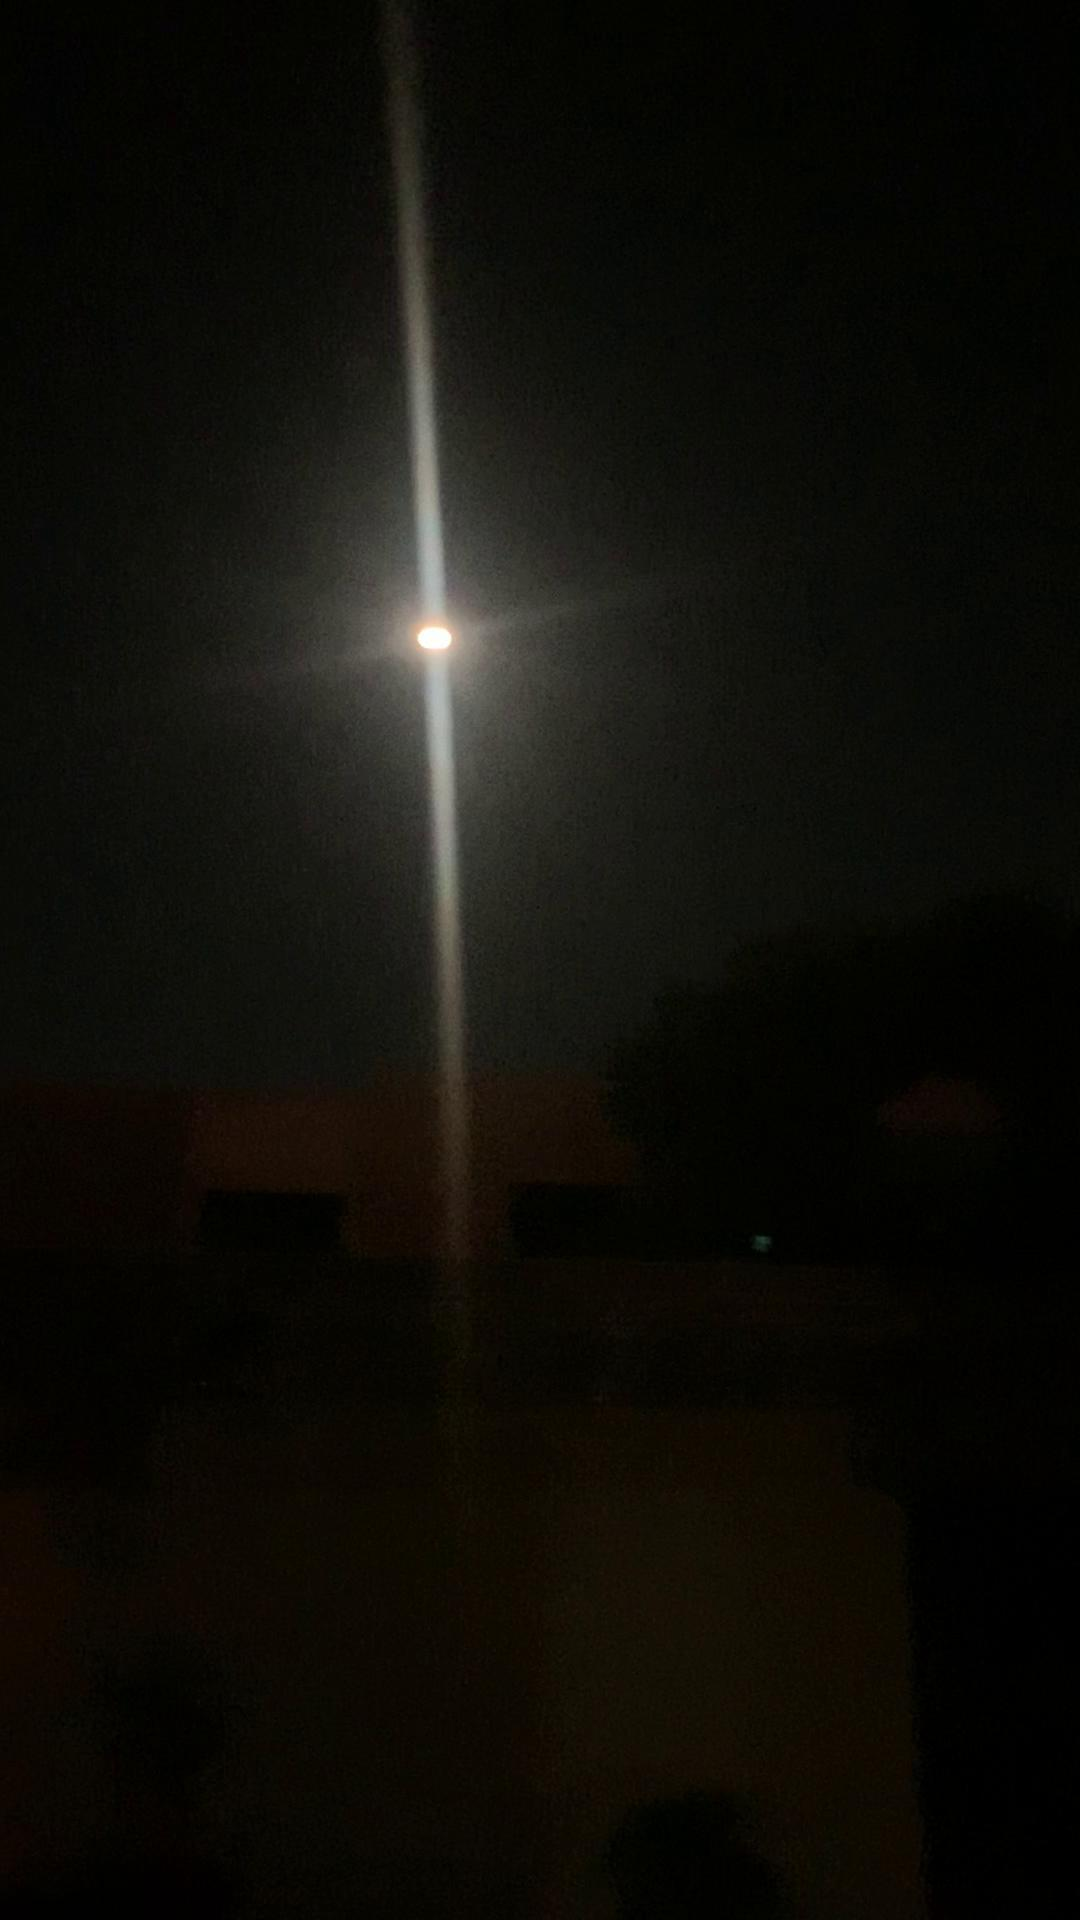moon: (401, 595, 476, 674)
